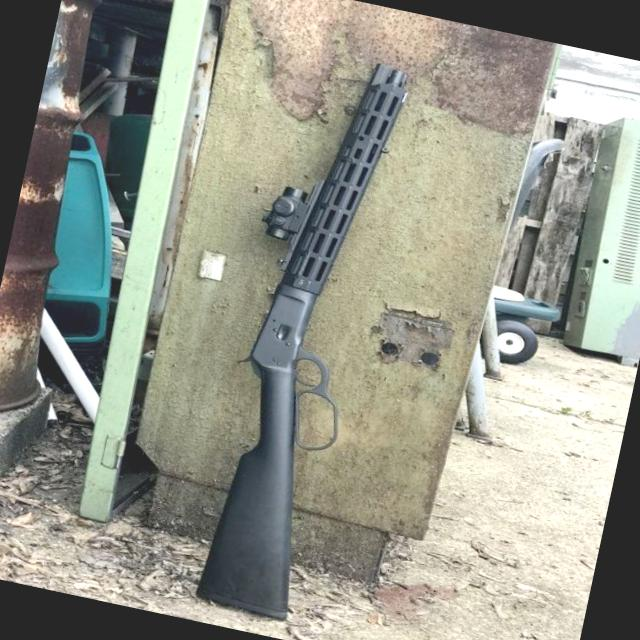shotgun: (111, 24, 498, 640)
